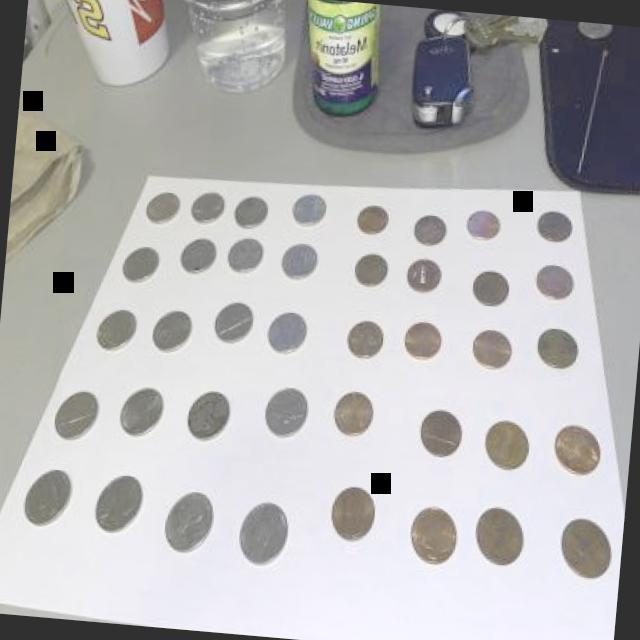Nickel: (232, 498, 292, 570), (90, 469, 148, 536), (158, 486, 214, 554), (19, 464, 74, 530), (258, 380, 312, 442), (110, 381, 166, 439), (180, 388, 233, 446), (261, 306, 309, 358), (208, 298, 256, 348), (148, 307, 196, 355), (175, 232, 216, 276), (288, 189, 329, 230), (279, 242, 320, 282), (229, 188, 270, 228), (223, 235, 264, 274)
Penny: (556, 516, 615, 584), (322, 480, 379, 550), (471, 503, 527, 572), (548, 419, 606, 485), (404, 502, 460, 569), (476, 412, 532, 474), (414, 402, 466, 460), (328, 392, 374, 441), (533, 326, 584, 370), (466, 326, 514, 371), (530, 262, 581, 304), (339, 317, 386, 362), (530, 205, 577, 245), (400, 319, 442, 363), (348, 249, 391, 290), (402, 254, 443, 295), (351, 198, 392, 239), (462, 204, 501, 243), (468, 270, 509, 307), (406, 212, 447, 249)
